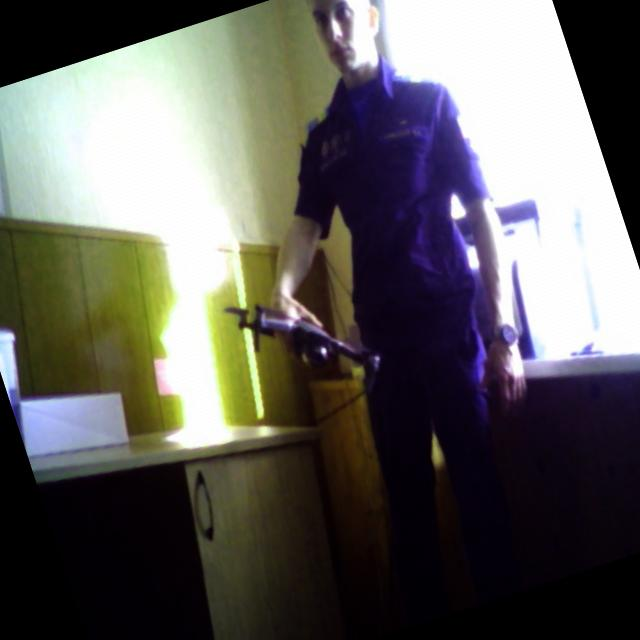drone: (213, 245, 404, 440)
